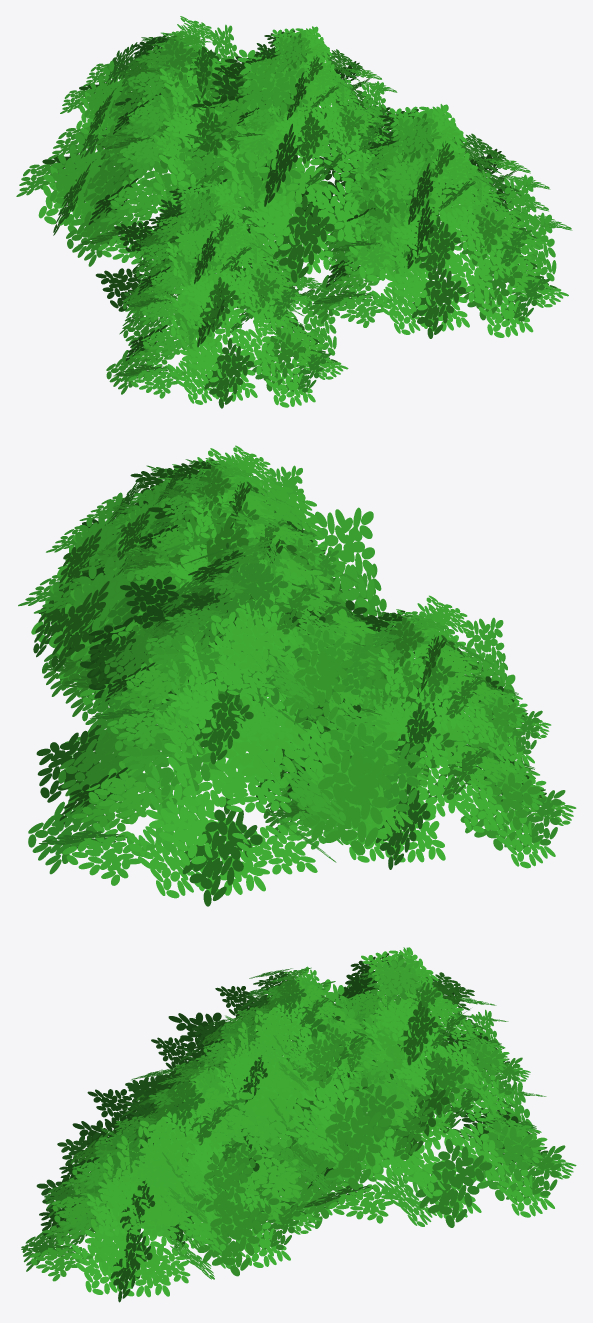
File: LargeTreeLeaves.fbx
3 renders of one model, top to bottom at view 1: azimuth 30°, elevation 25°; view 2: azimuth 150°, elevation 25°; view 3: azimuth 270°, elevation 25°, orthographic. The views are drawn at different scales.
Visible parts, largest first — view 1: Leaves378, Leaves352, Leaves381, Leaves376, Leaves538, Leaves717, Leaves218, Leaves680, Leaves546, Leaves221, Leaves541, Leaves366 (+110 smaller); view 2: Leaves719, Leaves351, Leaves711, Leaves712, Leaves639, Leaves709, Leaves716, Leaves708, Leaves714, Leaves699, Leaves632, Leaves706 (+99 smaller); view 3: Leaves399, Leaves698, Leaves559, Leaves392, Leaves705, Leaves479, Leaves472, Leaves396, Leaves695, Leaves701, Leaves394, Leaves556 (+84 smaller).
Part boxes in pixels (x1,y1,x2,y2): Leaves378: (273,195,334,282); Leaves352: (240,63,304,112); Leaves381: (305,181,370,241); Leaves376: (243,193,317,251); Leaves538: (412,262,465,338); Leaves717: (50,149,105,203); Leaves218: (204,338,253,408); Leaves680: (66,203,129,266); Leaves546: (474,284,533,337); Leaves221: (230,327,282,375); Leaves541: (440,250,497,302); Leaves366: (223,139,301,210); Leaves719: (303,746,398,854); Leaves351: (314,507,374,610); Leaves711: (182,798,262,906); Leaves712: (220,696,307,789); Leaves639: (283,647,353,726); Leaves709: (146,791,232,865); Leaves716: (232,824,317,874); Leaves708: (62,820,156,885); Leaves714: (209,761,291,812); Leaves699: (124,718,223,809); Leaves632: (223,610,286,678); Leaves706: (28,791,109,874); Leaves399: (310,1100,391,1189); Leaves698: (415,1139,492,1227); Leaves559: (197,1199,268,1276); Leaves392: (238,1053,320,1133); Leaves705: (473,1121,541,1200); Leaves479: (193,1154,253,1220); Leaves472: (139,1118,201,1178); Leaves396: (240,1157,302,1197); Leaves695: (328,1182,398,1223); Leaves701: (445,1122,513,1182); Leaves394: (227,1102,290,1147); Leaves556: (135,1245,190,1283).
Size of the model in its own units: 269 by 171 by 294.
